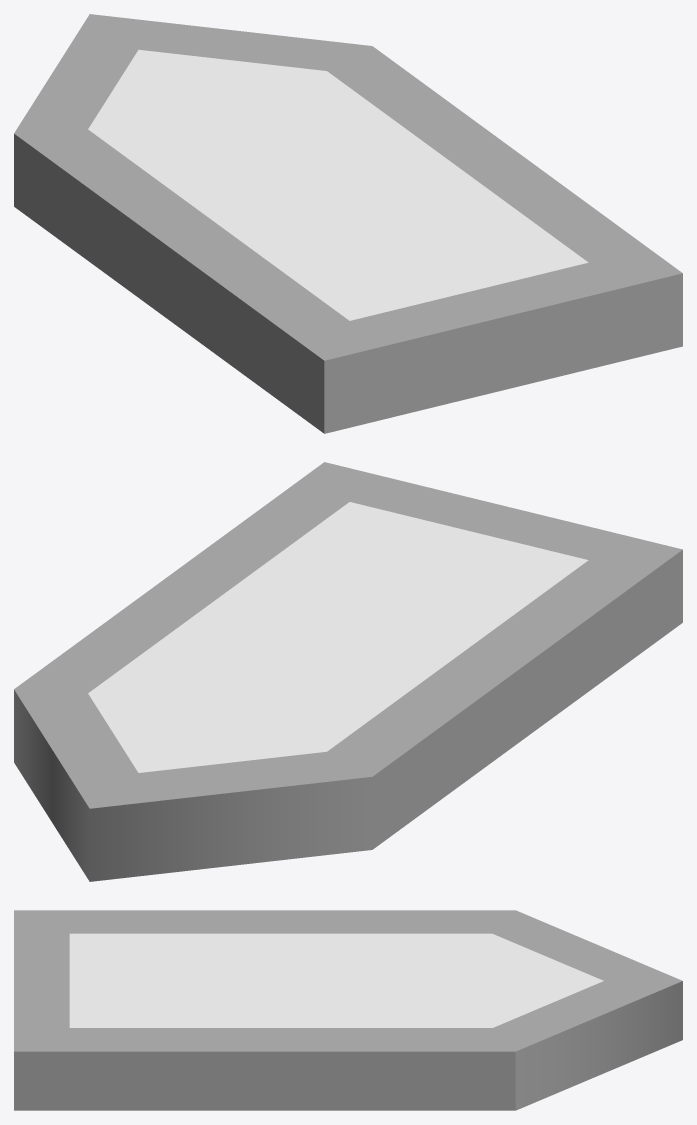
Rendered from Shield.fbx.
3 renders of one model, top to bottom at view 1: azimuth 30°, elevation 25°; view 2: azimuth 150°, elevation 25°; view 3: azimuth 270°, elevation 25°, orthographic. The views are drawn at different scales.
Parts seen in each view (by area): view 1: Shield; view 2: Shield; view 3: Shield.
Part boxes in pixels (left/top/right/bottom): Shield: left=14, top=14, right=682, bottom=433; Shield: left=14, top=462, right=682, bottom=881; Shield: left=14, top=910, right=682, bottom=1110.
Size of the model in its own units: 0.1981 by 0.0386 by 0.3963.
